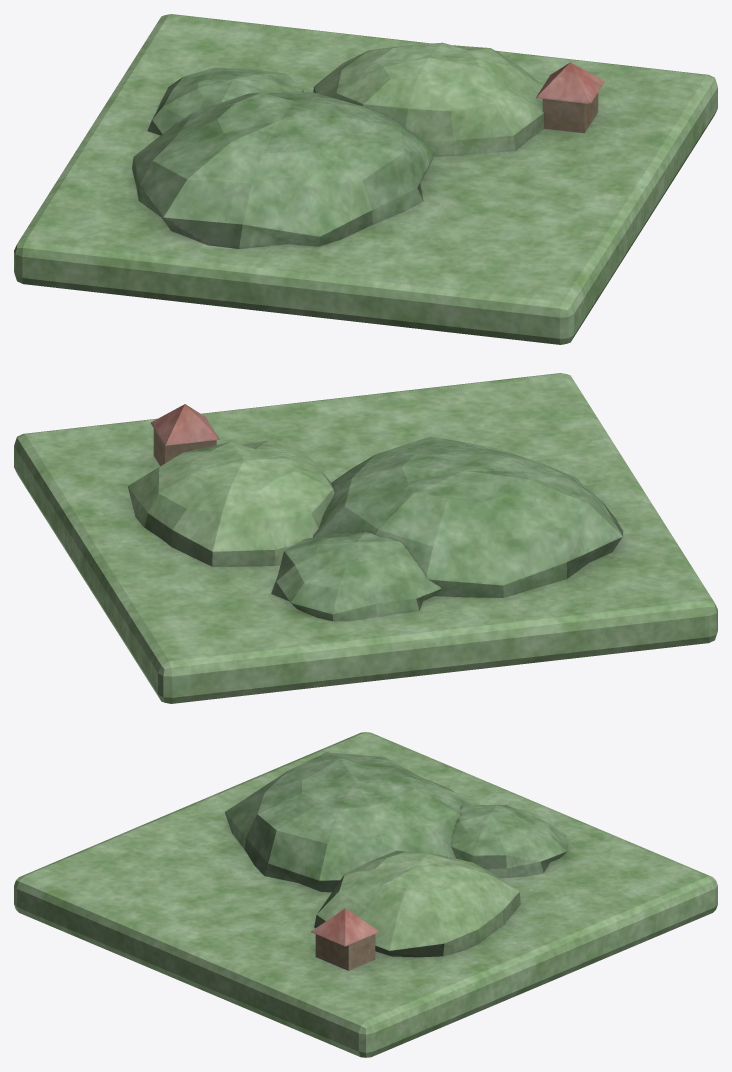
File: aldar_hills.glb
3 renders of one model, top to bottom at view 1: azimuth 30°, elevation 25°; view 2: azimuth 150°, elevation 25°; view 3: azimuth 270°, elevation 25°, orthographic. The views are drawn at different scales.
Parts seen in each view (by area): view 1: dilek; view 2: dilek; view 3: dilek.
Boxes of the visible parts, box(x1,y1,x2,y2) form: dilek: box(14, 14, 717, 344); dilek: box(14, 373, 717, 703); dilek: box(14, 732, 717, 1057).
Bounding box in the file's own units: 2.42 × 0.4377 × 2.42.
1 material, 1 textured.
